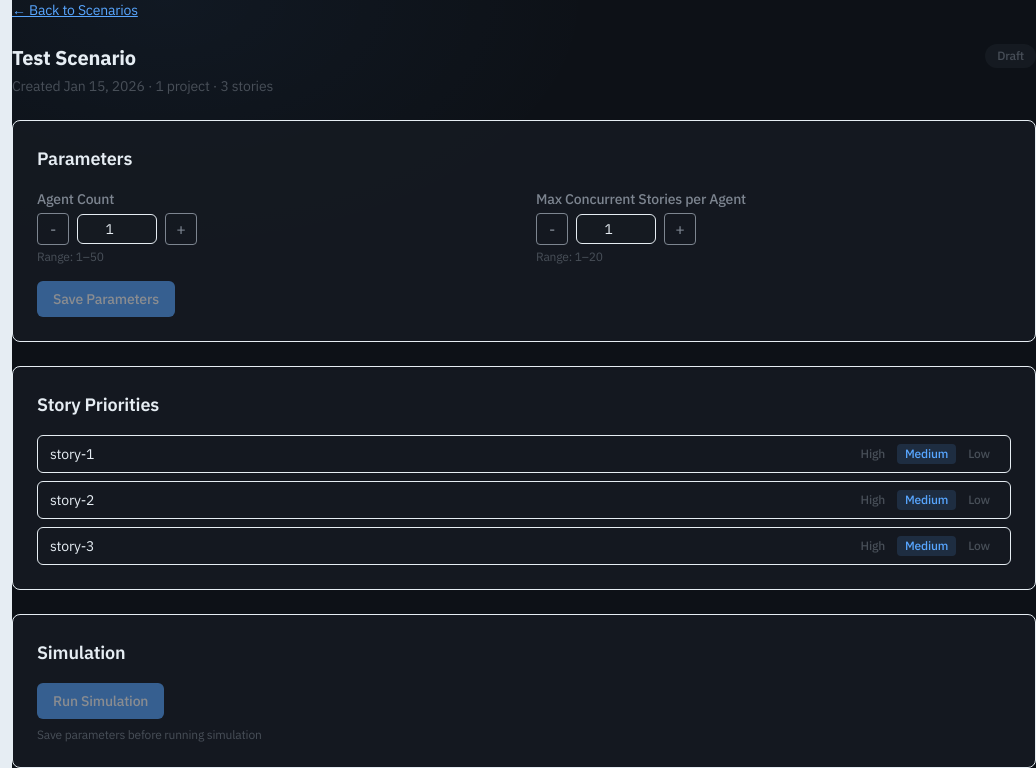
ScenarioDetail › diff summary shows agent count change after increment
Increment agent count from default 1 to 2
Step 1. Click the button "+" below "Agent Count" → point(181, 229), box [165,213,197,245]
(page scrolled)
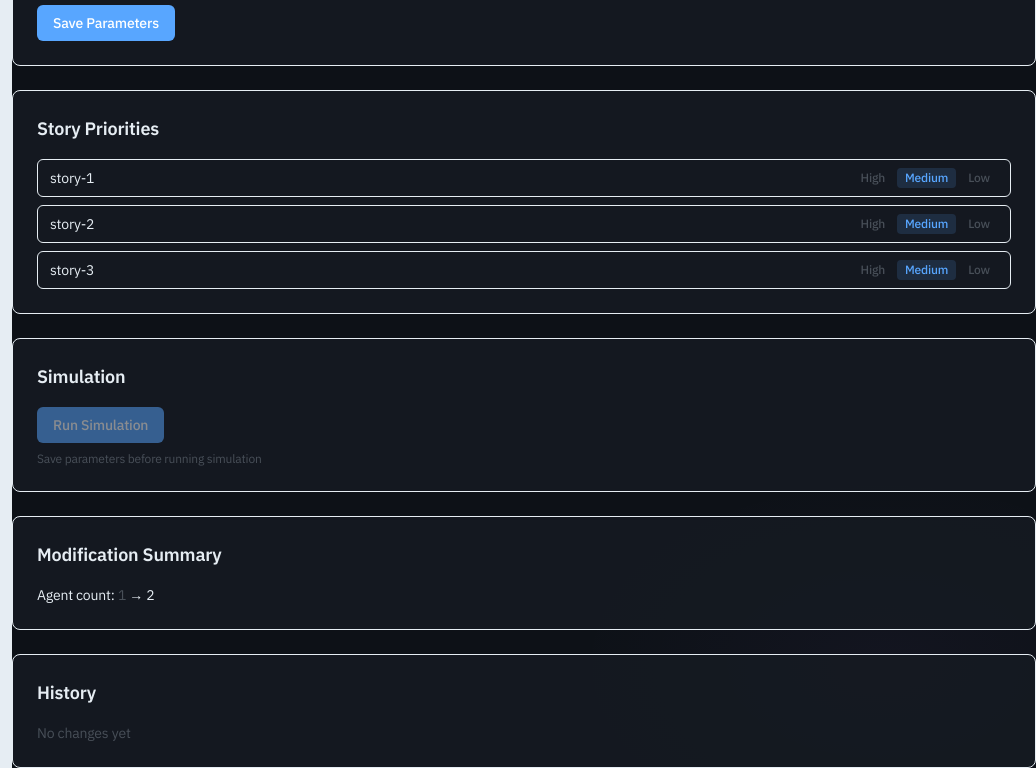
Expected: the text "Agent count: 1 → 2" is shown, [37,586,154,604]
